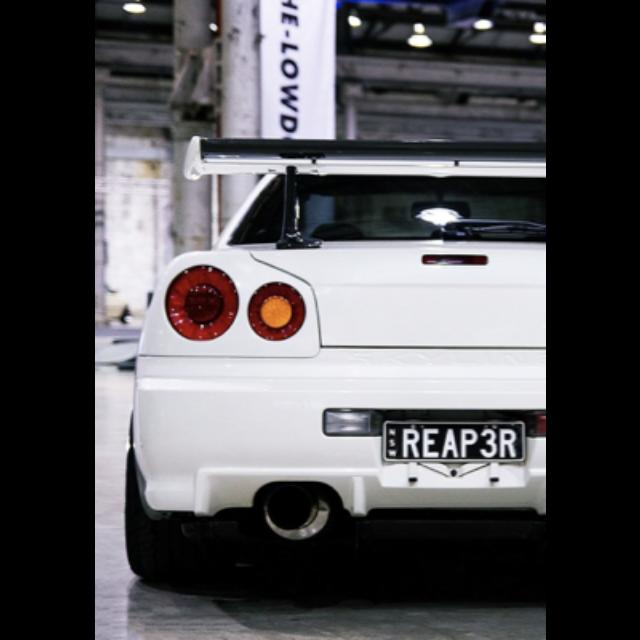carPlate: (384, 423, 524, 461)
